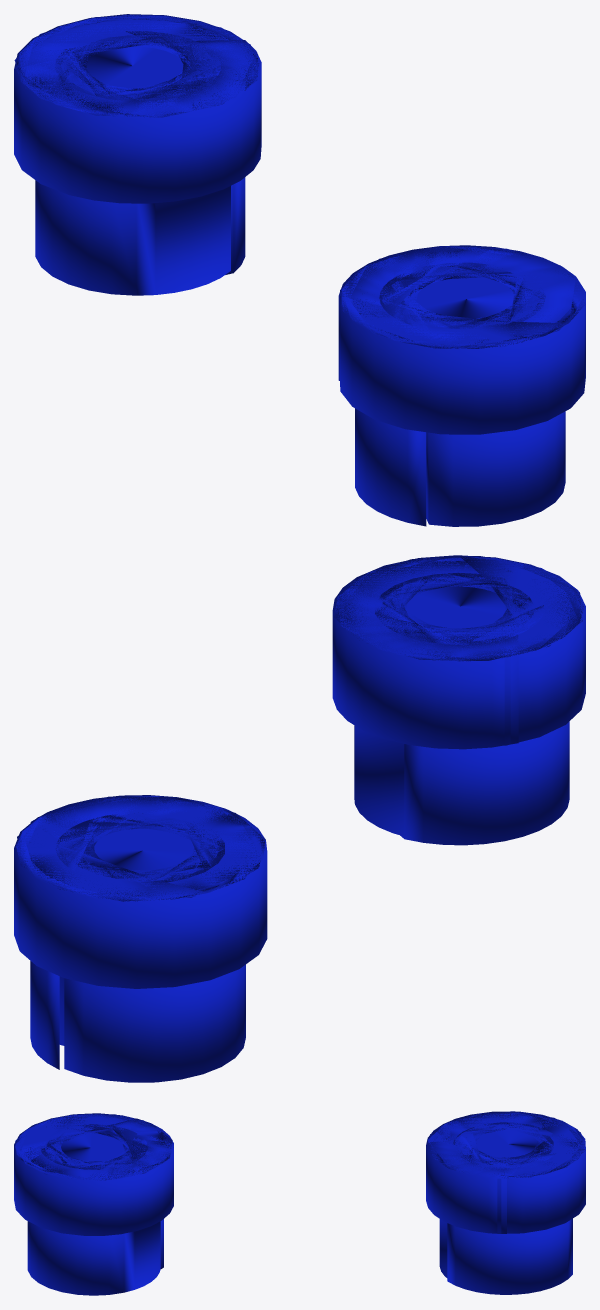
Rendered from tuyeau_element_000004.obj.
3 views of the same model, one above another, from view 1: azimuth 30°, elevation 25°; view 2: azimuth 150°, elevation 25°; view 3: azimuth 270°, elevation 25° (orthographic). The views are drawn at different scales.
Visible parts, largest first — view 1: tuyeau2_Cube.017, tuyeau1_Cube.014; view 2: tuyeau2_Cube.017, tuyeau1_Cube.014; view 3: tuyeau1_Cube.014, tuyeau2_Cube.017.
Part boxes in pixels (x1=…): tuyeau2_Cube.017: x1=338, y1=245, x2=585, y2=526; tuyeau1_Cube.014: x1=14, y1=14, x2=261, y2=295; tuyeau2_Cube.017: x1=332, y1=555, x2=585, y2=845; tuyeau1_Cube.014: x1=14, y1=795, x2=267, y2=1082; tuyeau1_Cube.014: x1=426, y1=1111, x2=585, y2=1294; tuyeau2_Cube.017: x1=14, y1=1113, x2=173, y2=1295.
Size of the model in its own units: 3620 by 2917 by 12561.
